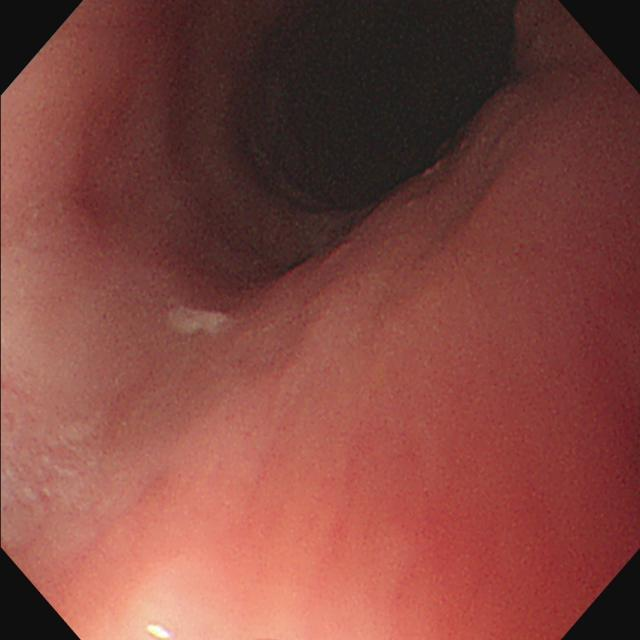E: (191, 2, 541, 252)
J: (169, 307, 230, 336)
